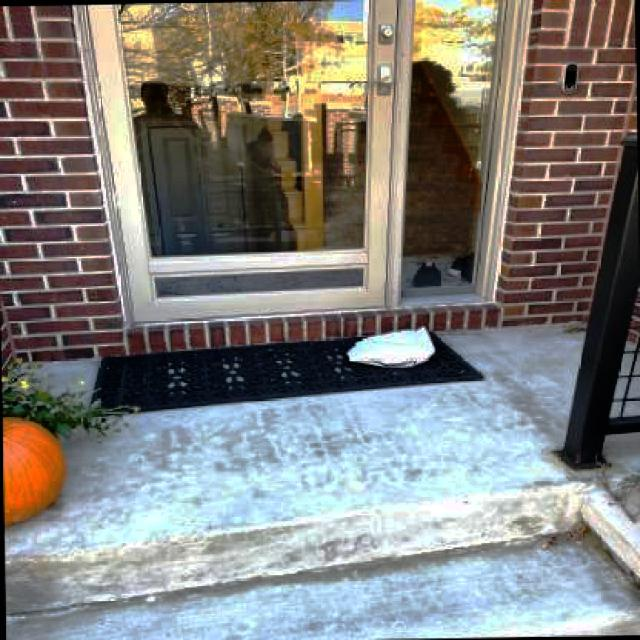Box: (347, 325, 435, 367)
